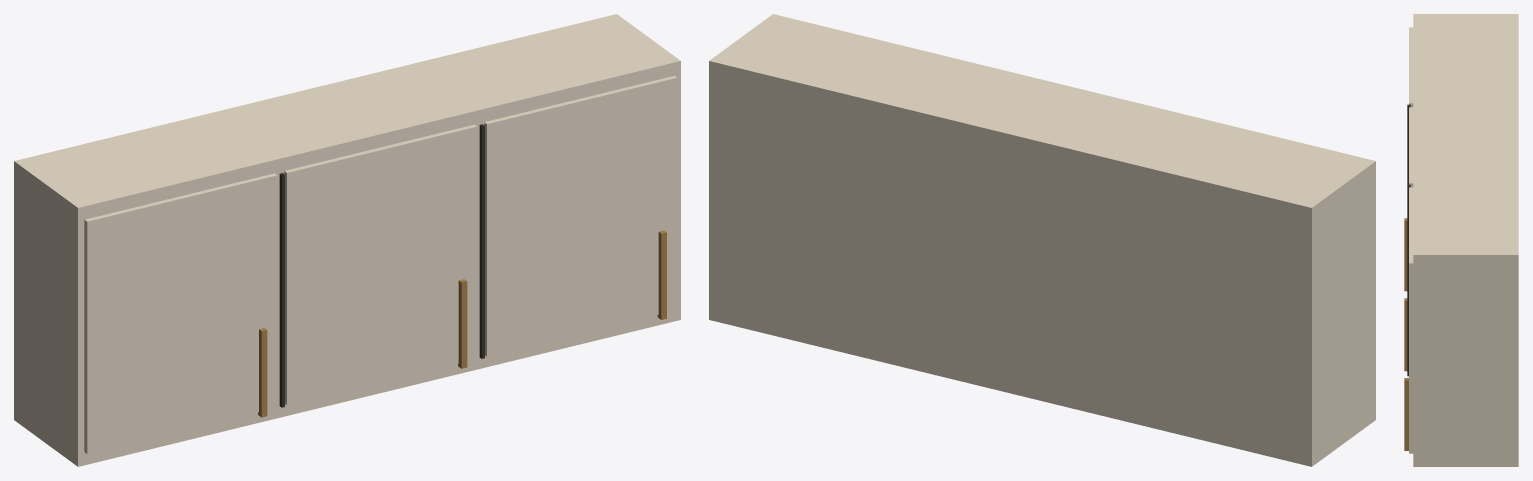
3 renders of one model, left to right at view 1: azimuth 30°, elevation 25°; view 2: azimuth 150°, elevation 25°; view 3: azimuth 270°, elevation 25°, orthographic. The views are drawn at different scales.
Parts seen in each view (by area): view 1: upper-cabinet; view 2: upper-cabinet; view 3: upper-cabinet.
Boxes of the visible parts, <box> form: upper-cabinet: <box>14,14,680,466</box>; upper-cabinet: <box>709,14,1375,466</box>; upper-cabinet: <box>1404,14,1518,466</box>.
Bounding box in the file's own units: 1.9 × 0.791 × 0.38.
